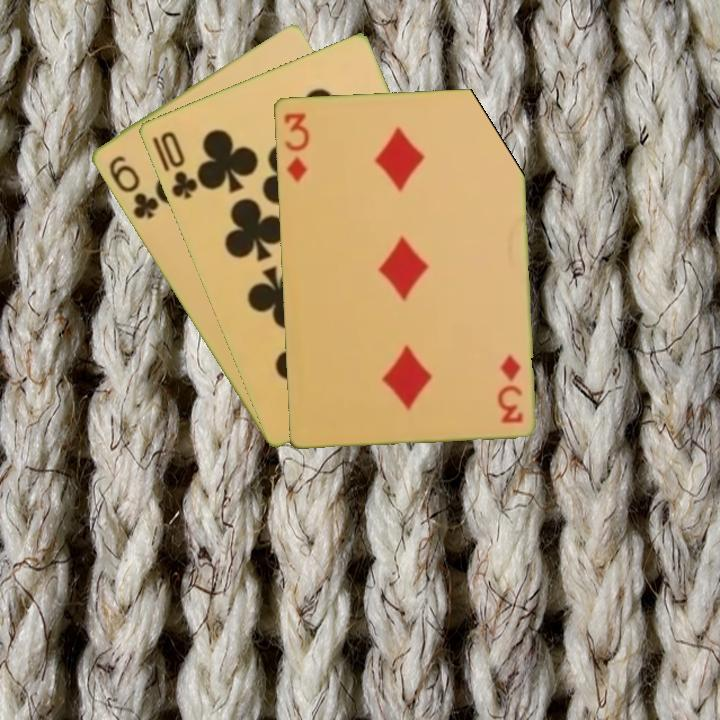10c: (148, 127, 201, 202)
3d: (280, 109, 312, 185), (496, 351, 525, 426)
6c: (104, 151, 161, 222)
